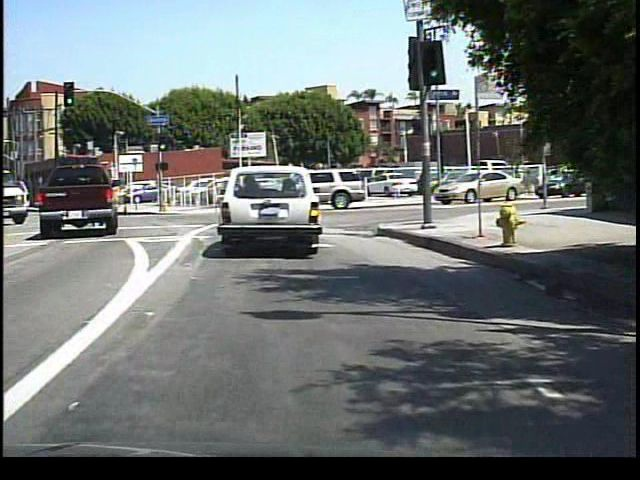person: (414, 162, 433, 204)
